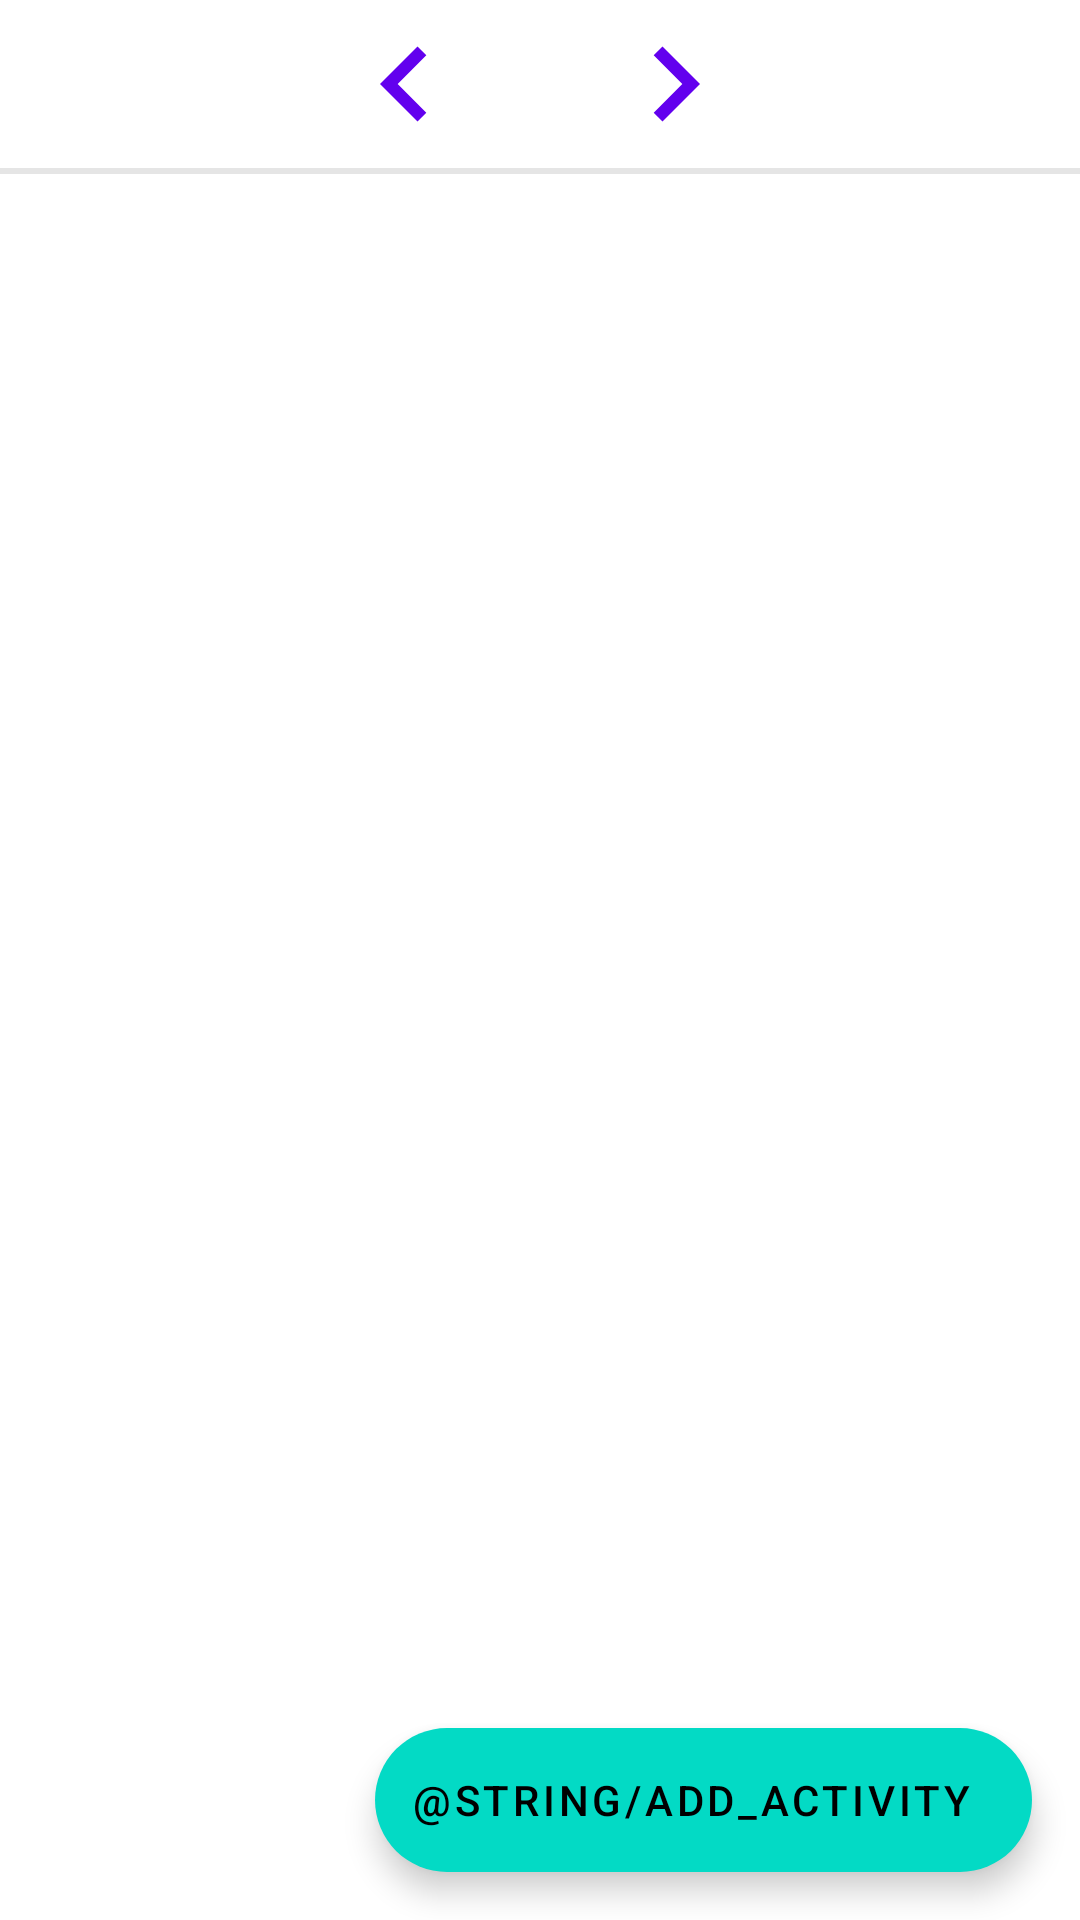

Screen size 1080*1920. Icon name, then its box in pixels as (x1, y1, x2, y2):
keyboard arrow left: (380, 46, 426, 122)
keyboard arrow right: (654, 46, 700, 122)
